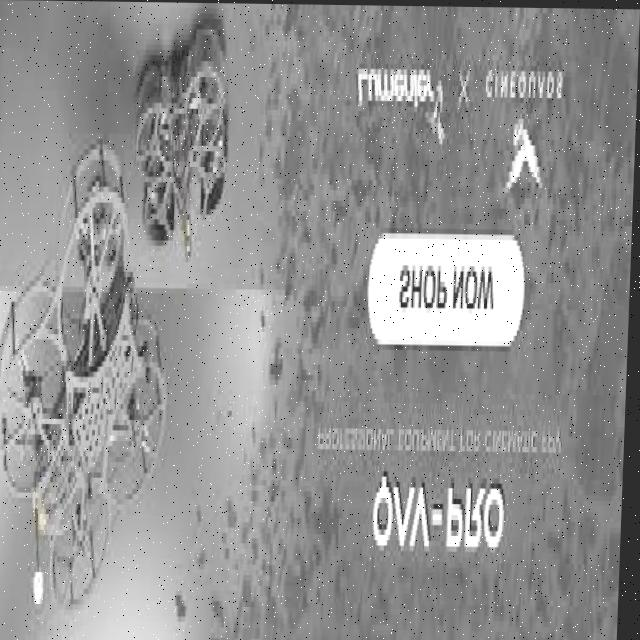drone: (0, 138, 184, 604), (130, 14, 248, 262)
